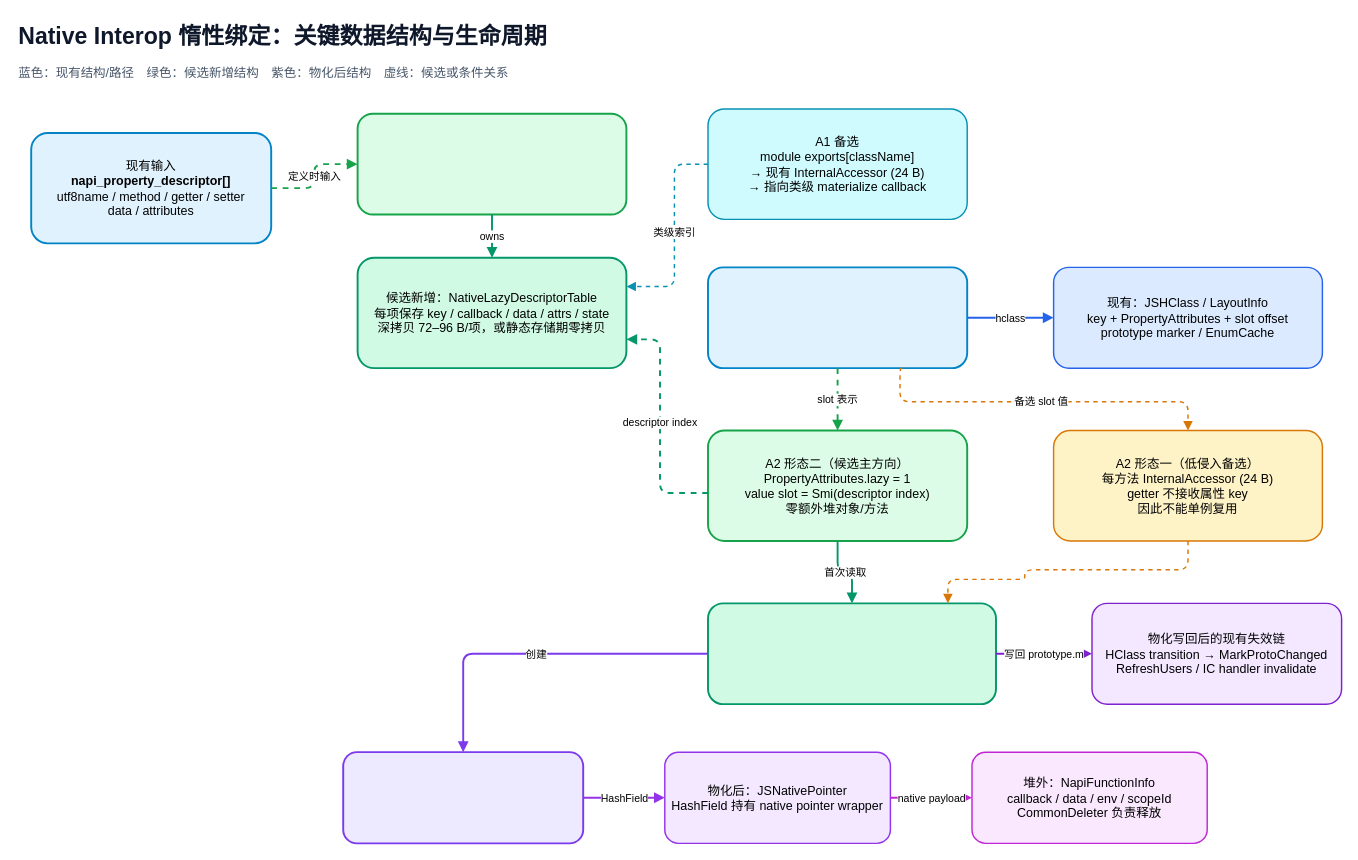
Some shapes in this 1358 by 860 pixel diagram are drawn without their labels. The shapes that lost their labels are listed below. From the top down, each one's centre as x and y in pixels, then its label:
point 491,163: 候选新增：ClassBindingLifetime 类 / module unload 生命周期所有者 负责 descriptor 与未物化资源释放
point 837,317: 现有：prototype JSObject 持有 HClass + property storage 方法 key 由 LayoutInfo 描述
point 851,653: 现有路径扩展点 JSObject::GetProperty / LoadIC 识别 lazy attr → CAS/锁定 slot → 查 descriptor
point 463,797: 物化后：JSFunction name / length / Method prototype.m 连续读取返回同一对象
